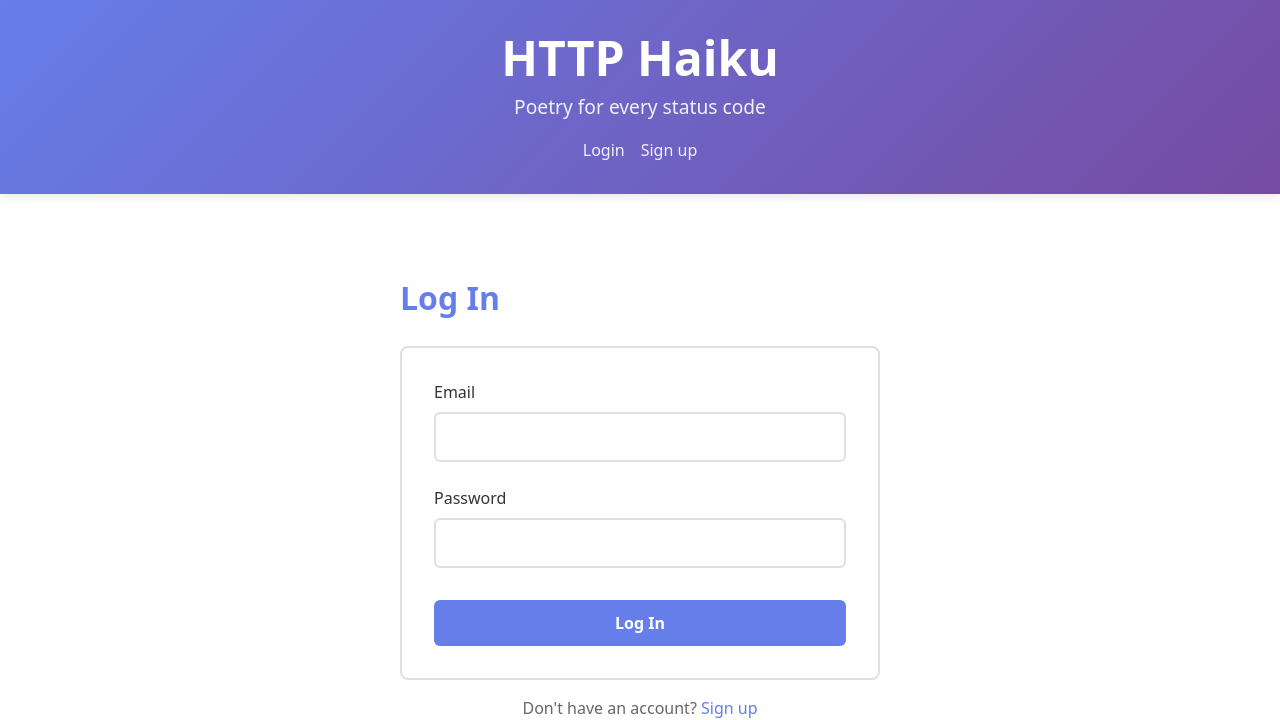
it: LoginPage › shows error from response data
Step 1. Type "bad@example.com" into the field labelled "Email" → (640, 437), box [434,412,846,462]
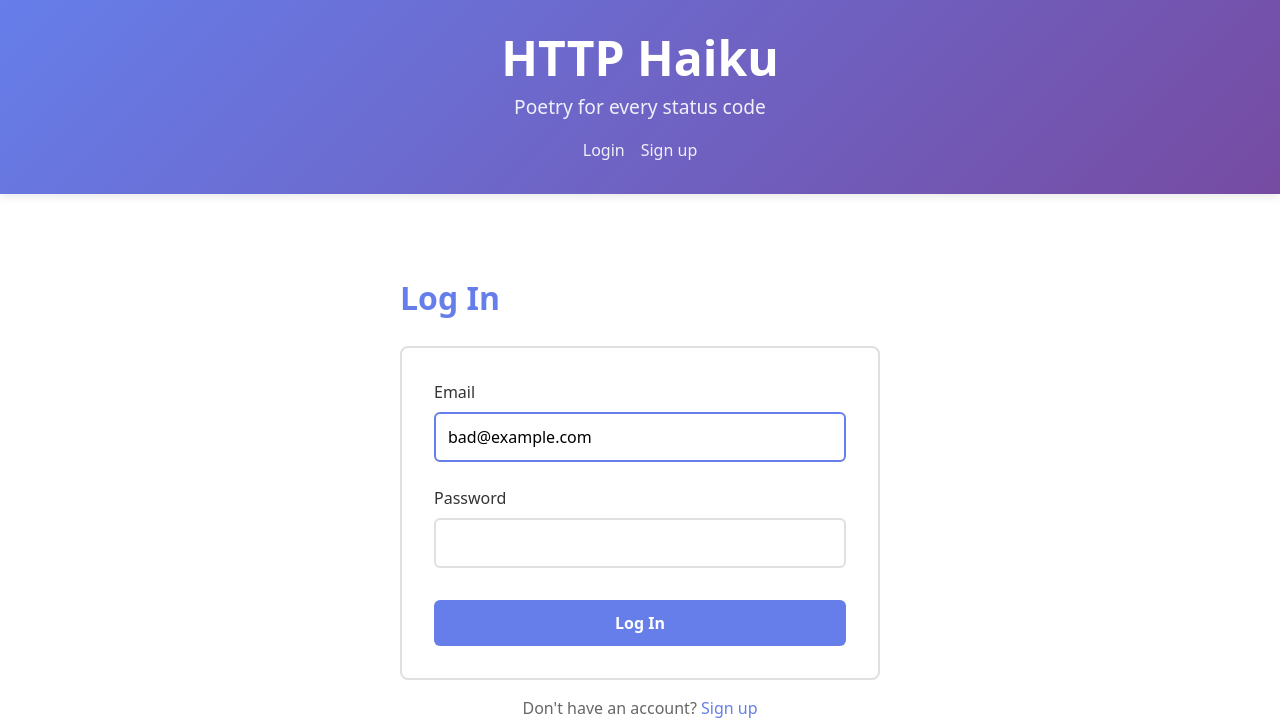
Step 2. Type "wrongpass" into the password field labelled "Password" → (640, 543), box [434,518,846,568]
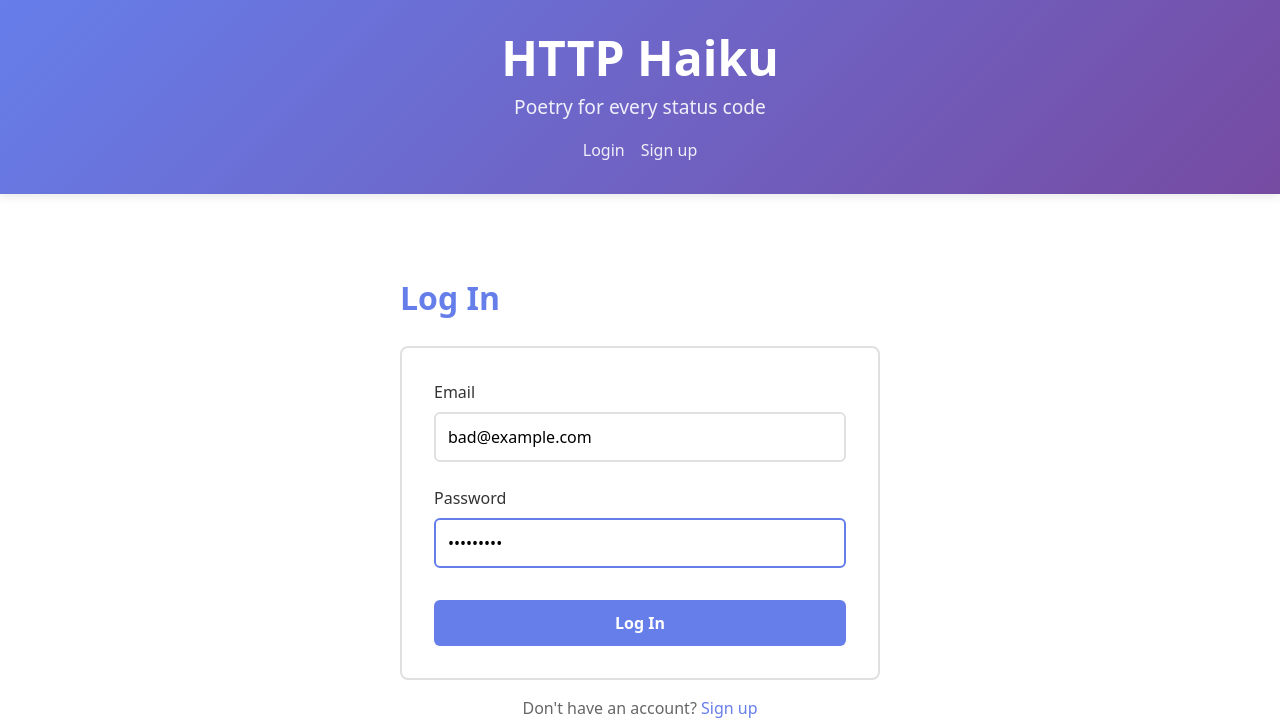
Step 3. Click the button "Log In" → (640, 623), box [434,600,846,646]
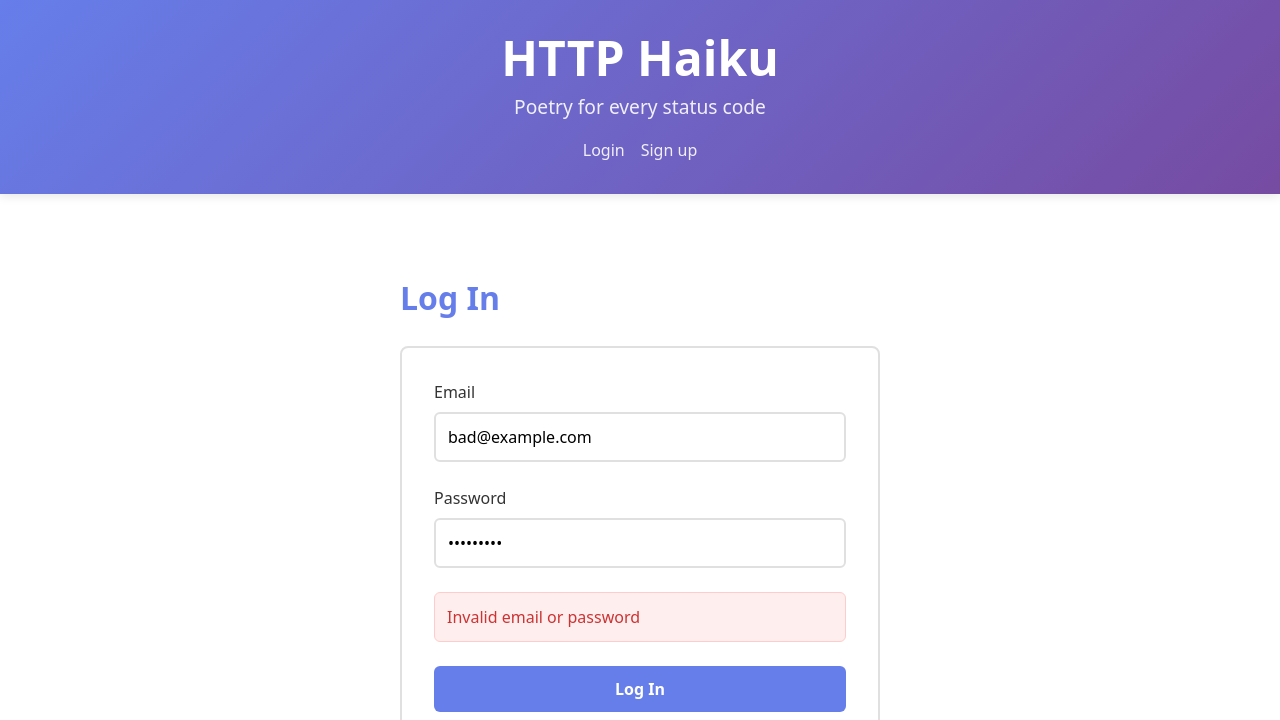
Now the text "Invalid email or password" is shown, box [434,592,846,642]
